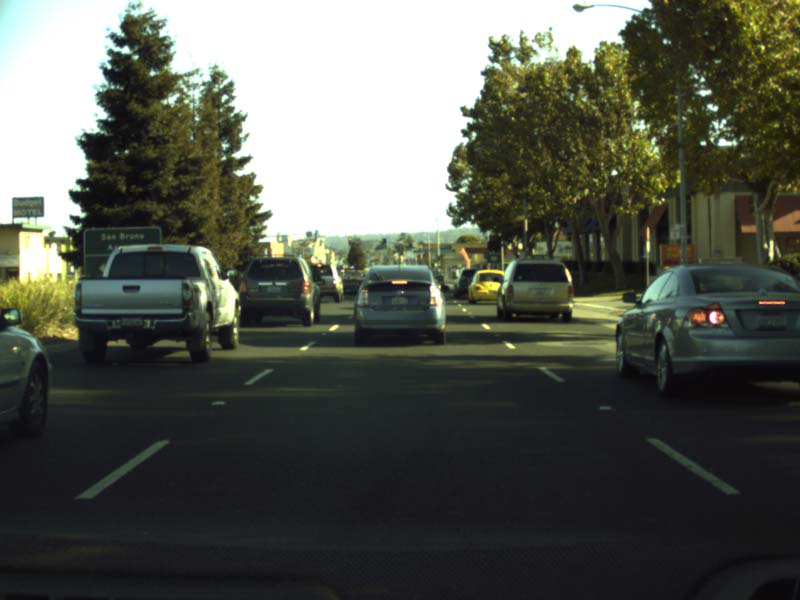Green: (383, 237, 385, 246)
Red: (347, 236, 351, 244)
